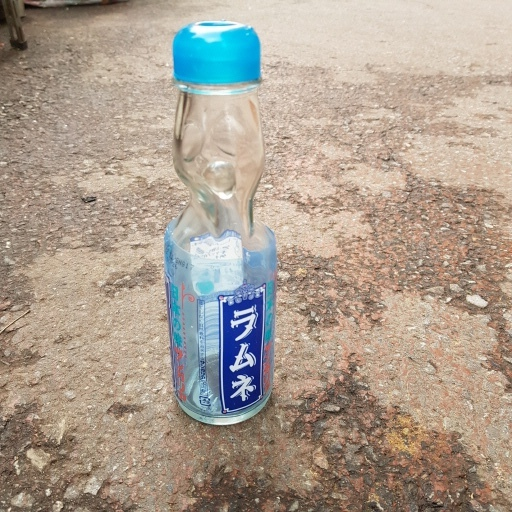Glass_4: (149, 19, 285, 427)
